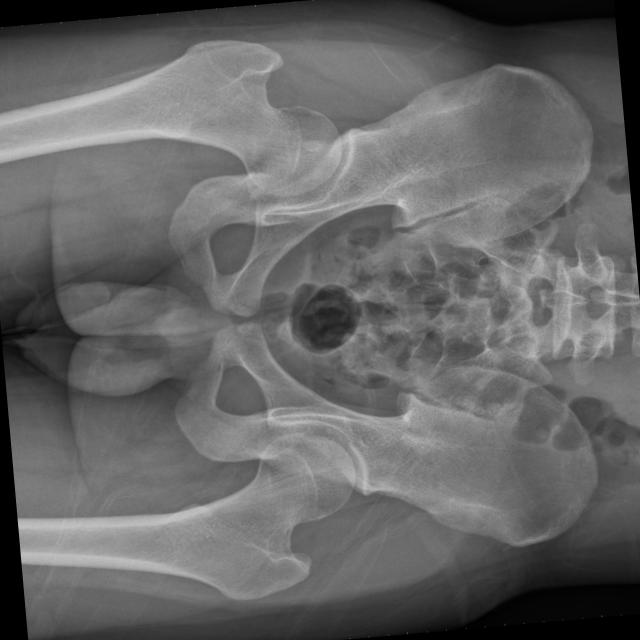normal-left: (17, 433, 355, 601)
normal-right: (0, 40, 342, 196)
